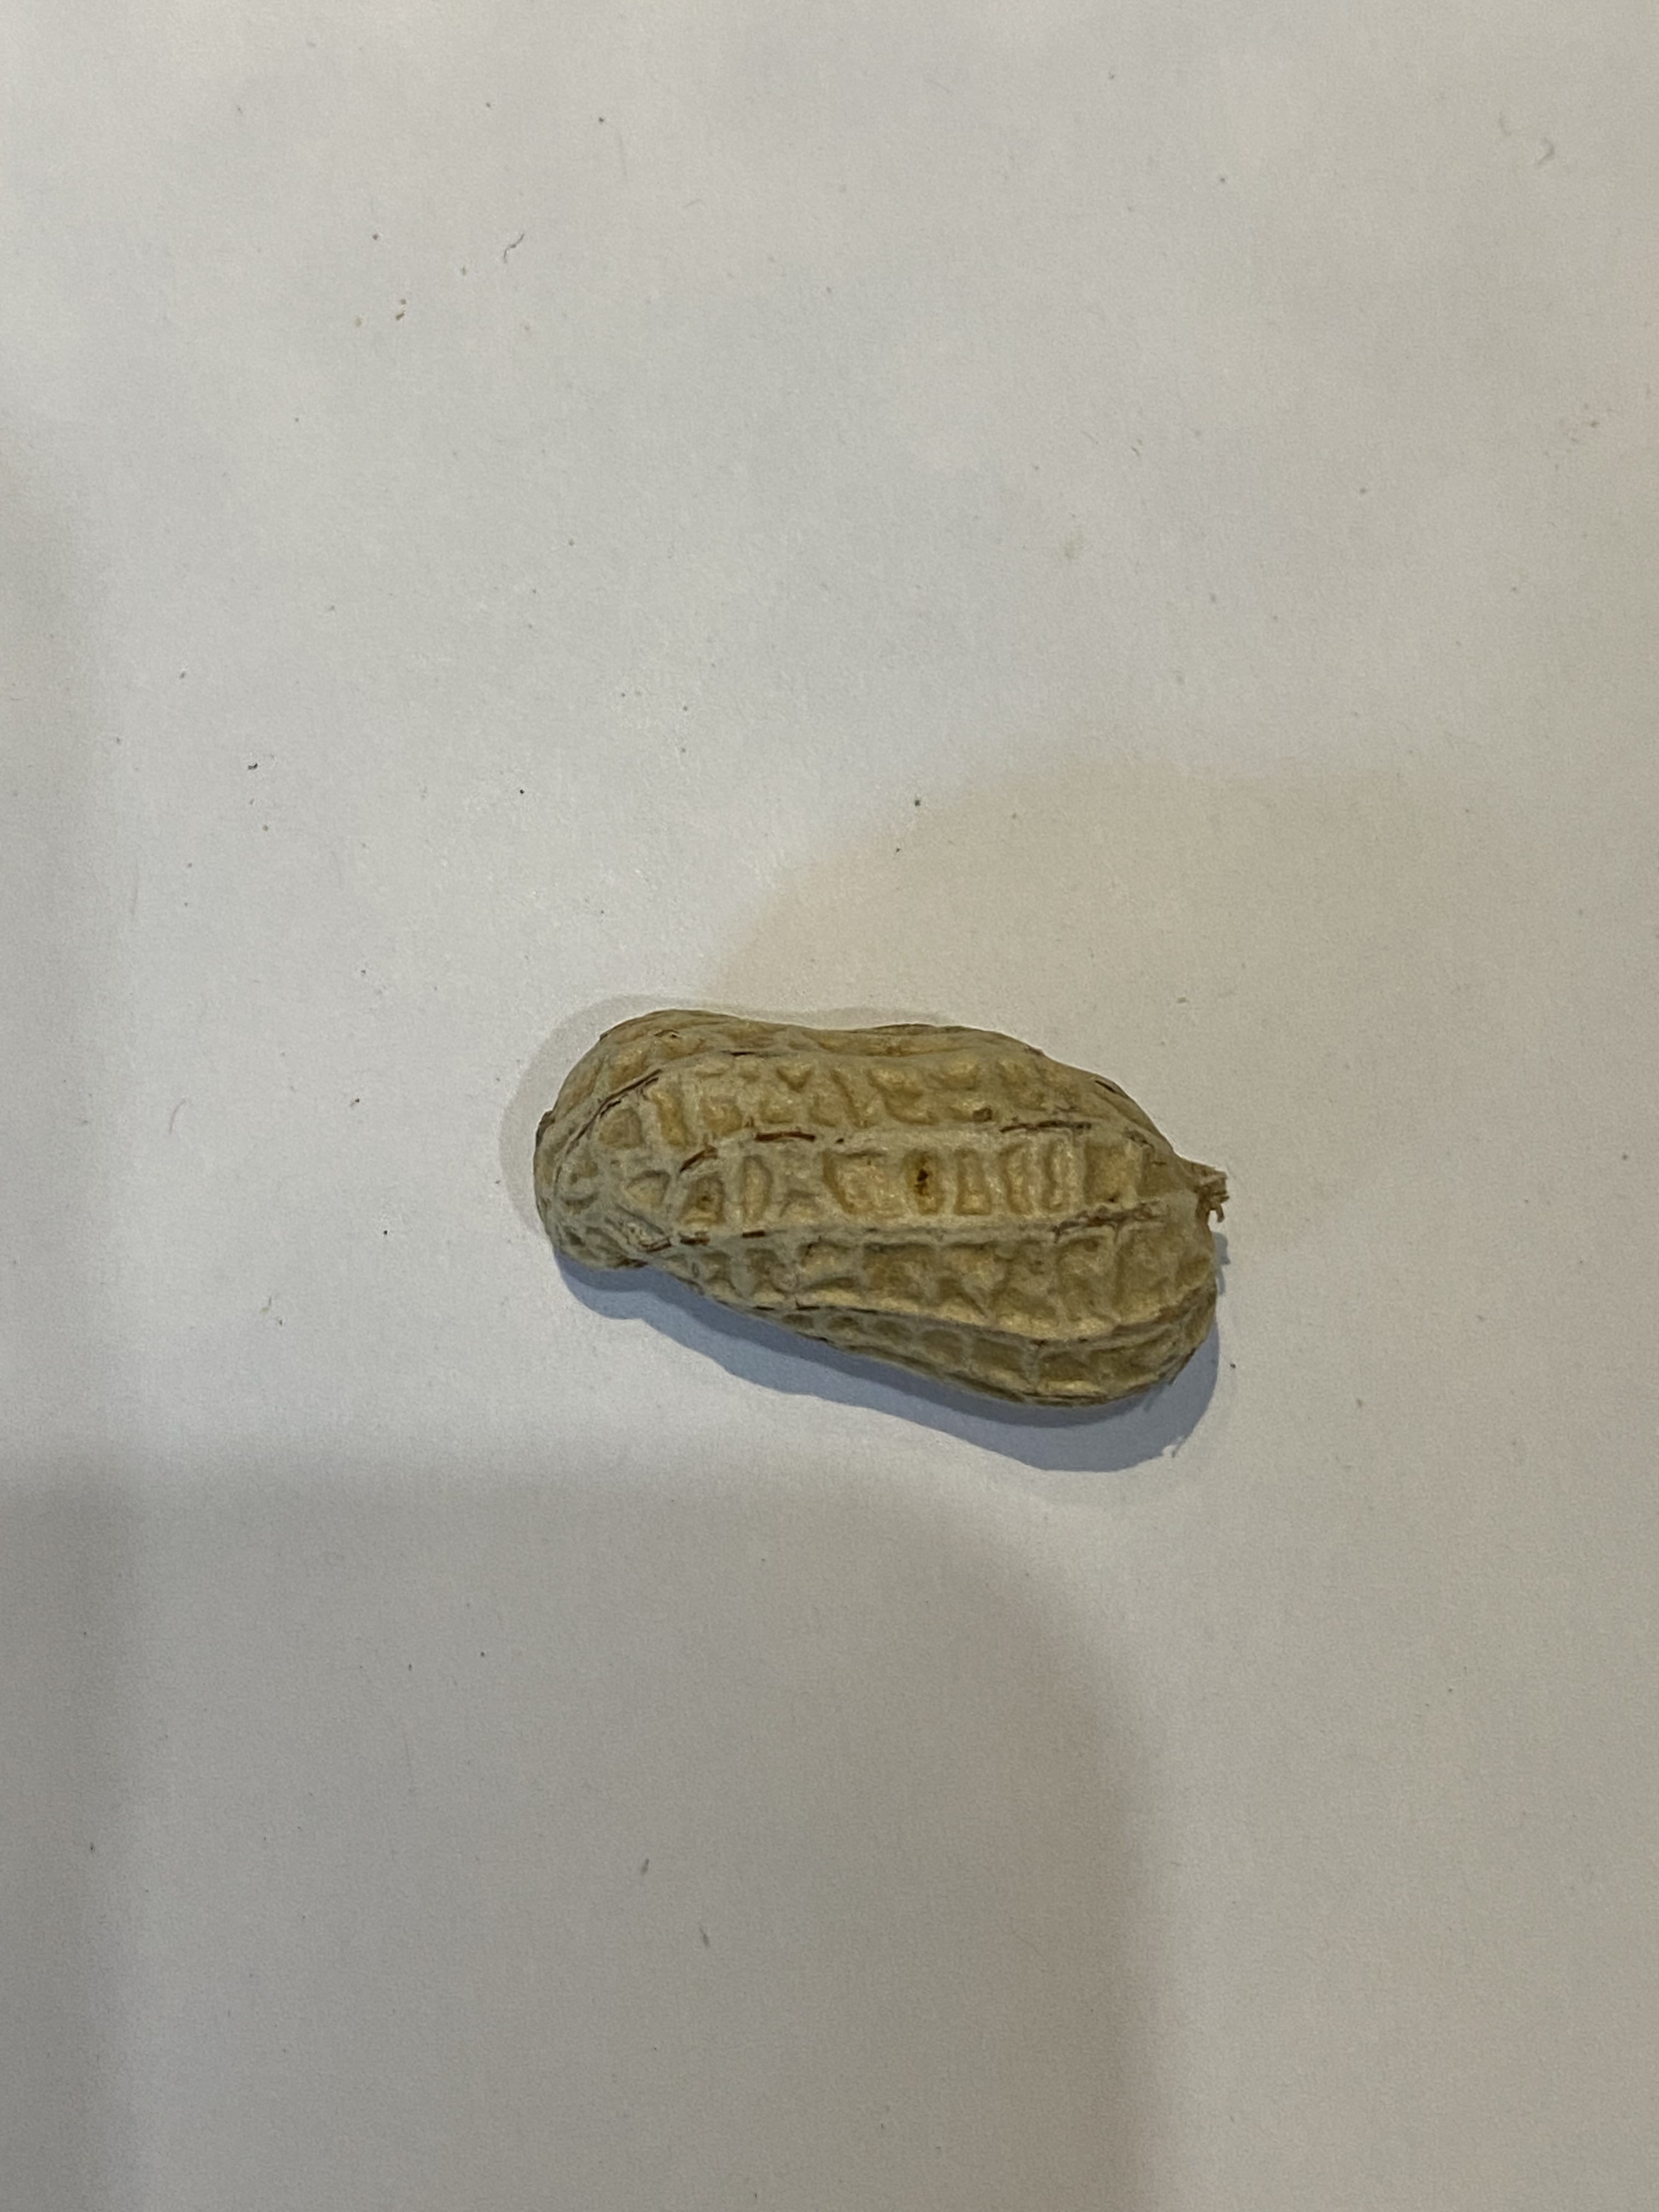kacang2: (491, 965, 1279, 1442)
